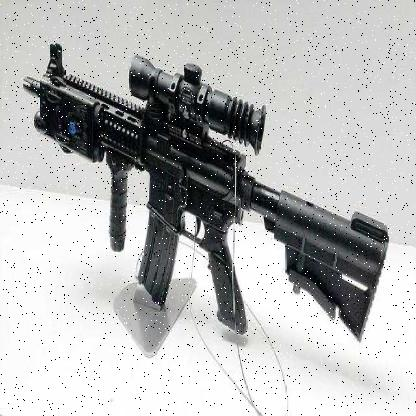rifle: (20, 46, 397, 365)
